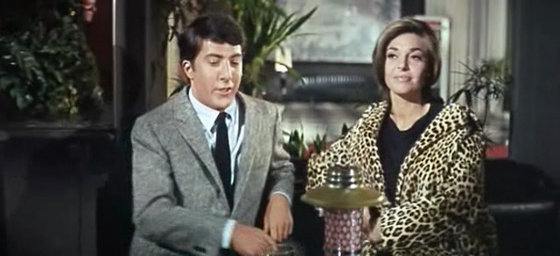face: (201, 48, 242, 108), (385, 43, 426, 91)
ms: (1, 1, 560, 256)
person: (306, 16, 485, 256), (130, 12, 296, 256)
